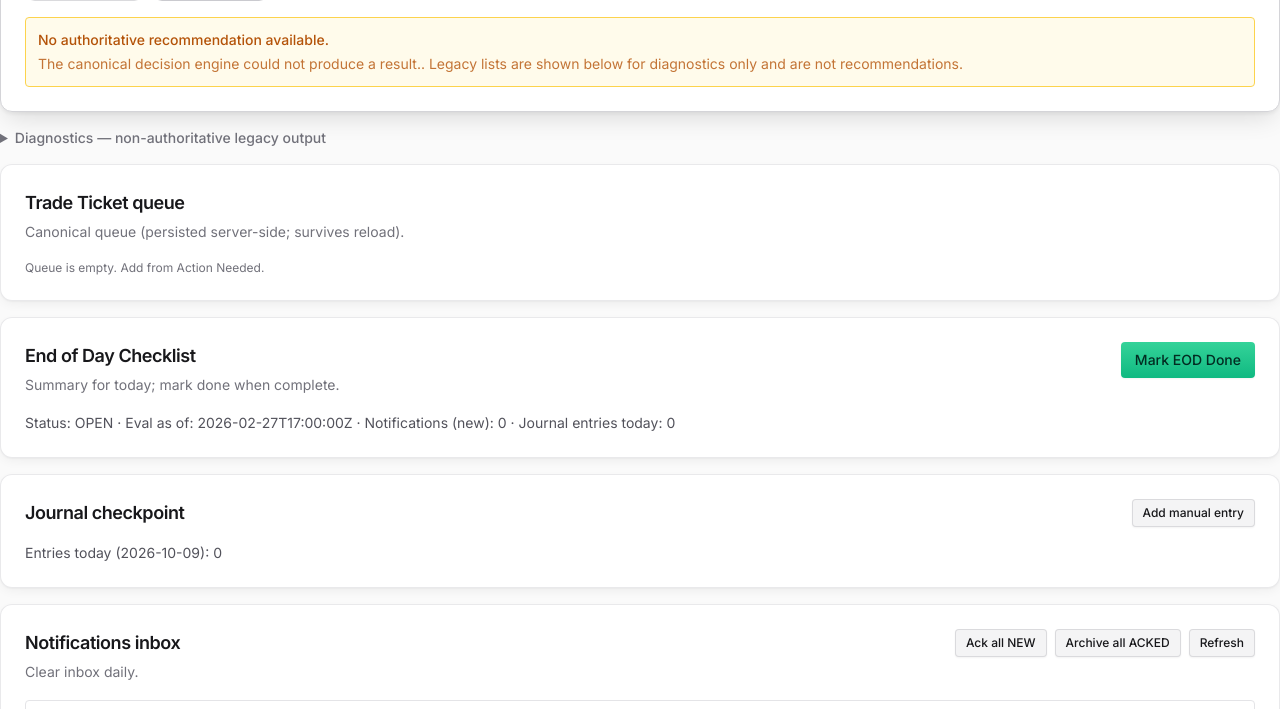
TodayPage › R26.9: EOD mark done blocked when 409 shows override UI
(page scrolled)
Click the button with test id "today-eod-mark-done" at (1188, 360), box [1121,342,1255,378]
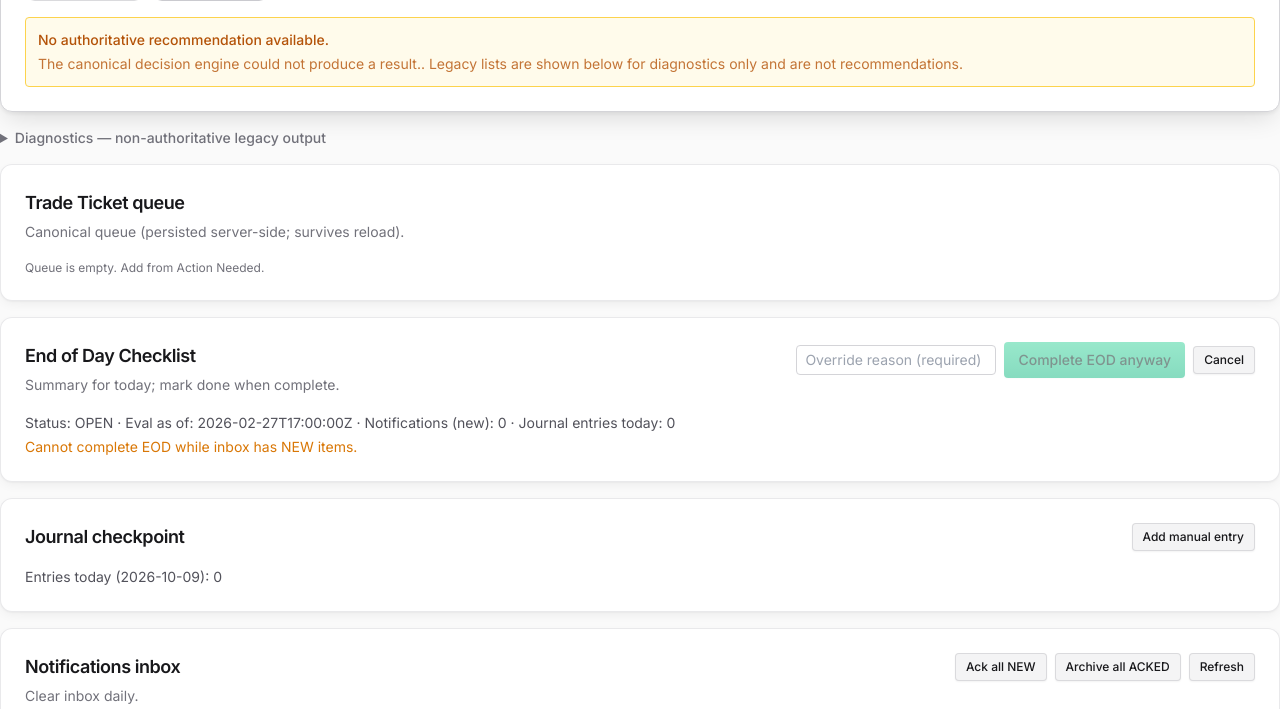
expect the text "Cannot complete EOD while inbox has NEW items." is shown: met, box [25,438,357,455]
expect the element with test id "today-eod-override" is shown: met, box [796,342,1255,378]
expect the field with test id "today-eod-override-reason" is shown: met, box [796,345,996,375]
